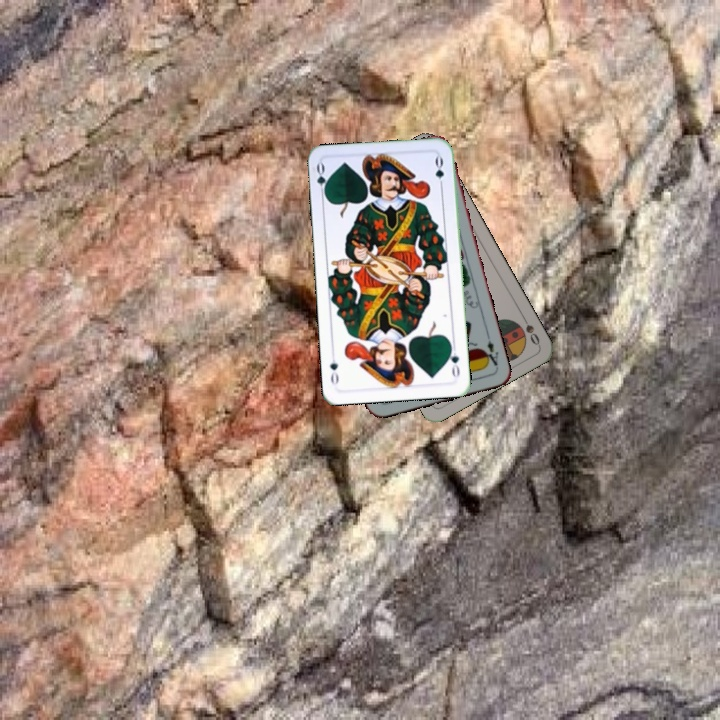EA: (480, 331, 501, 371)
GO: (312, 160, 331, 200), (444, 340, 462, 381)
SO: (517, 310, 542, 348)
